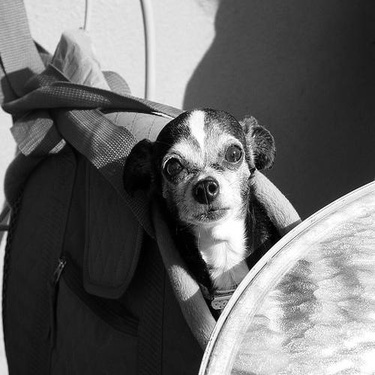dog: (99, 92, 291, 336)
